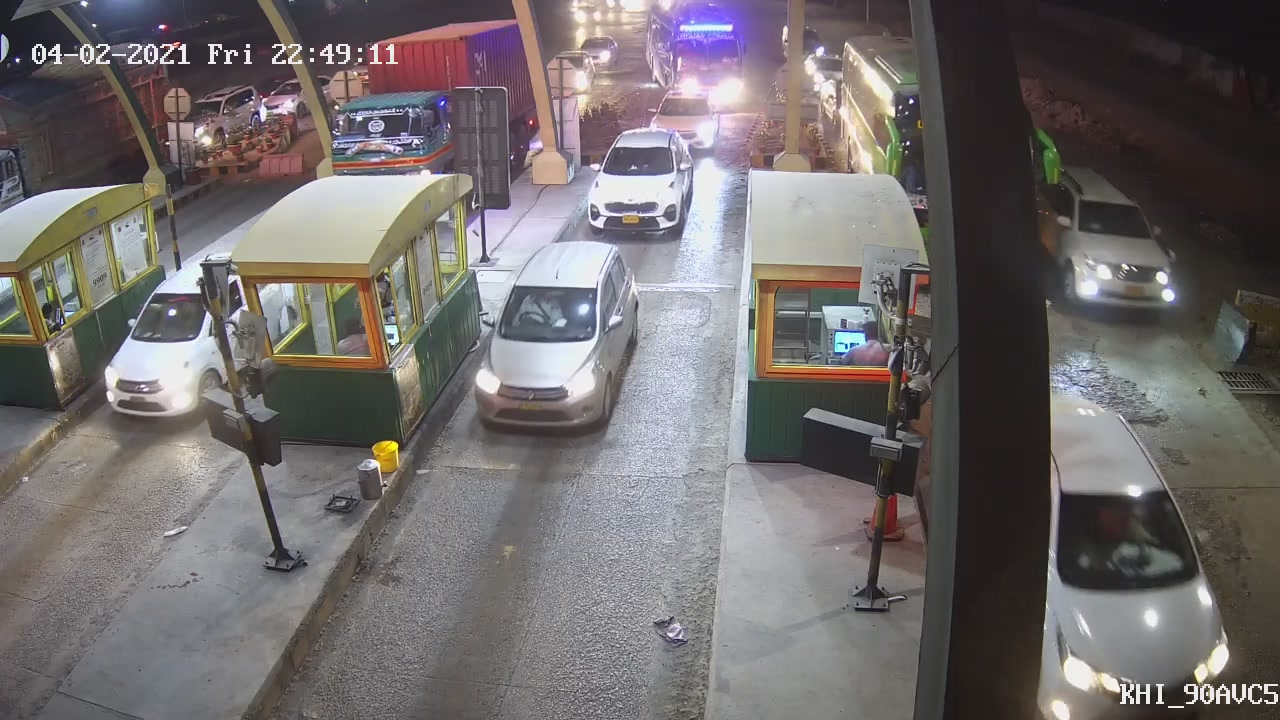F1: (473, 236, 646, 437), (587, 126, 703, 235)
